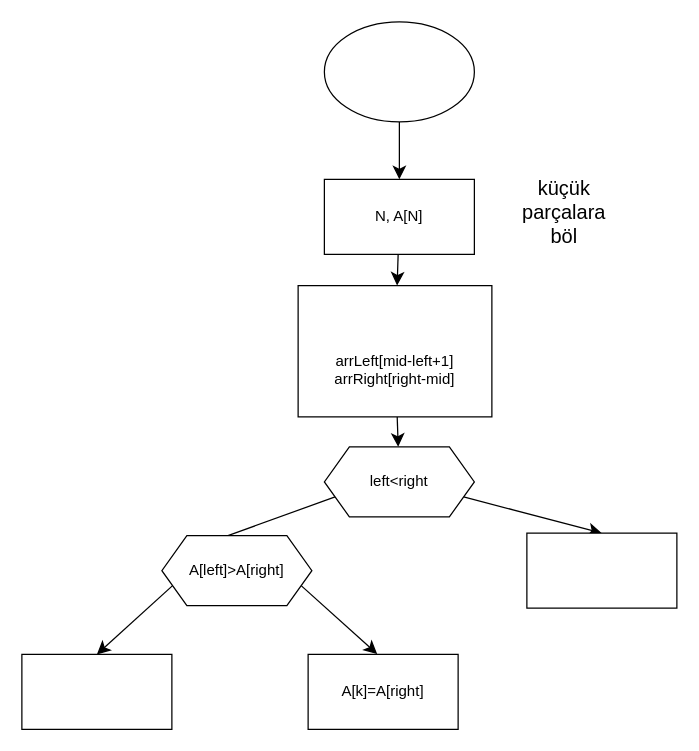
The diagram is 699 pixels wide and 751 high, and some of its shapes have lost their labels. Each missing label, with the box of its shape:
başla: (323, 21, 474, 122)
int mid=(left+right)/2: (526, 532, 677, 608)
